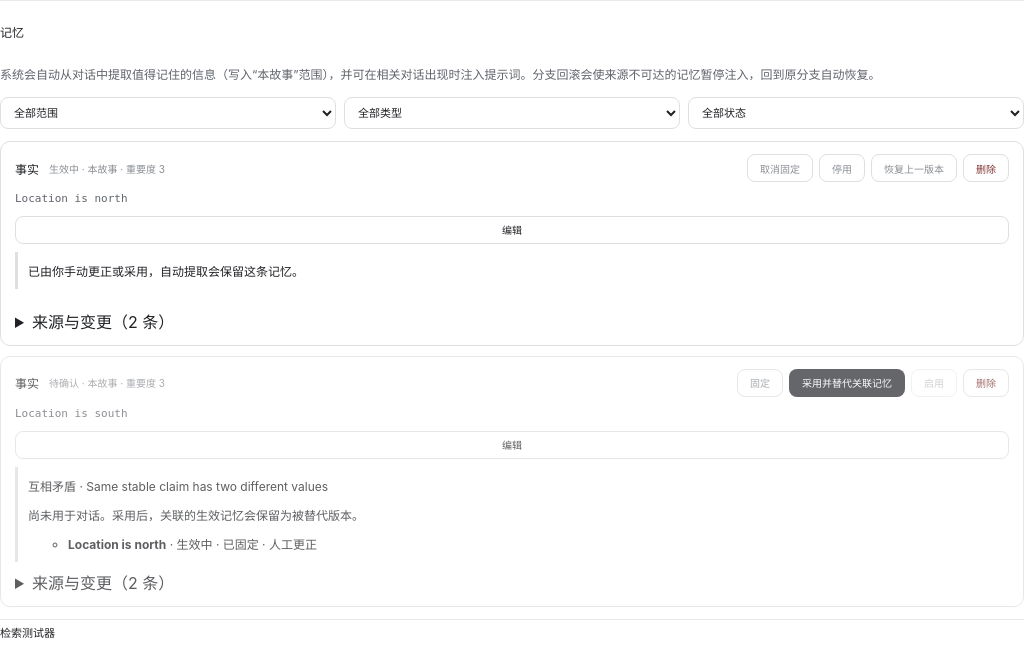
Scenario: shows the actual reconciliation reason and protected related content, then refreshes all records after explicit adoption and rollback
Expected: the text "Same stable claim has two different values" is shown, [86, 479, 328, 494]
Expected: the text "· 生效中 · 已固定 · 人工更正" is shown, [166, 537, 317, 552]
Click the button "采用并替代关联记忆". click: (847, 383)
box: [789, 369, 905, 397]
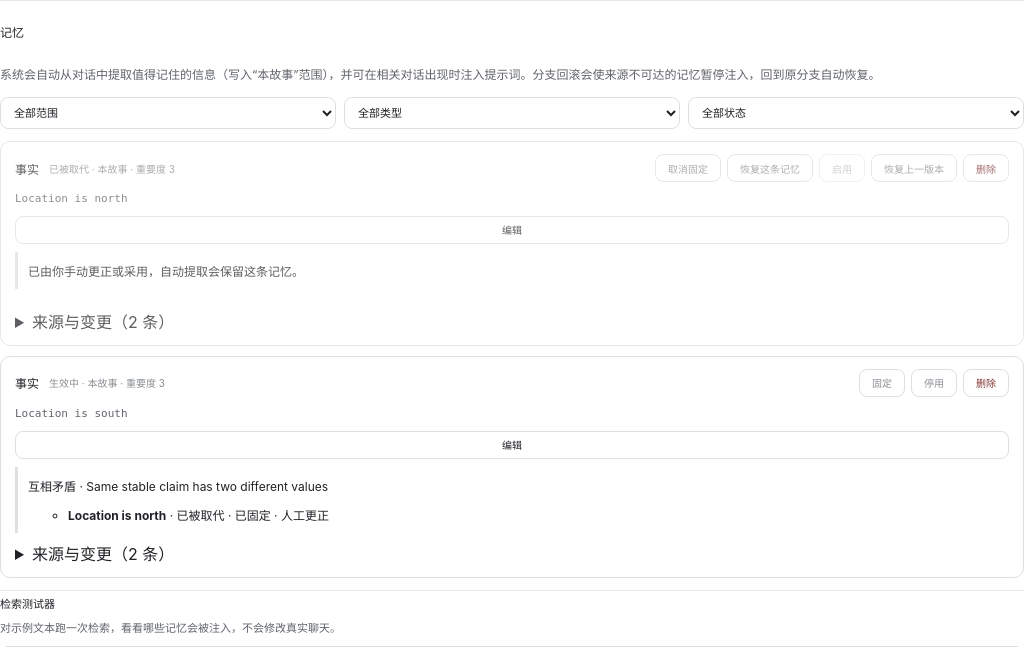
Expected: the button "恢复这条记忆" is shown
Click the button "恢复这条记忆". click: (770, 168)
box: [727, 154, 813, 182]
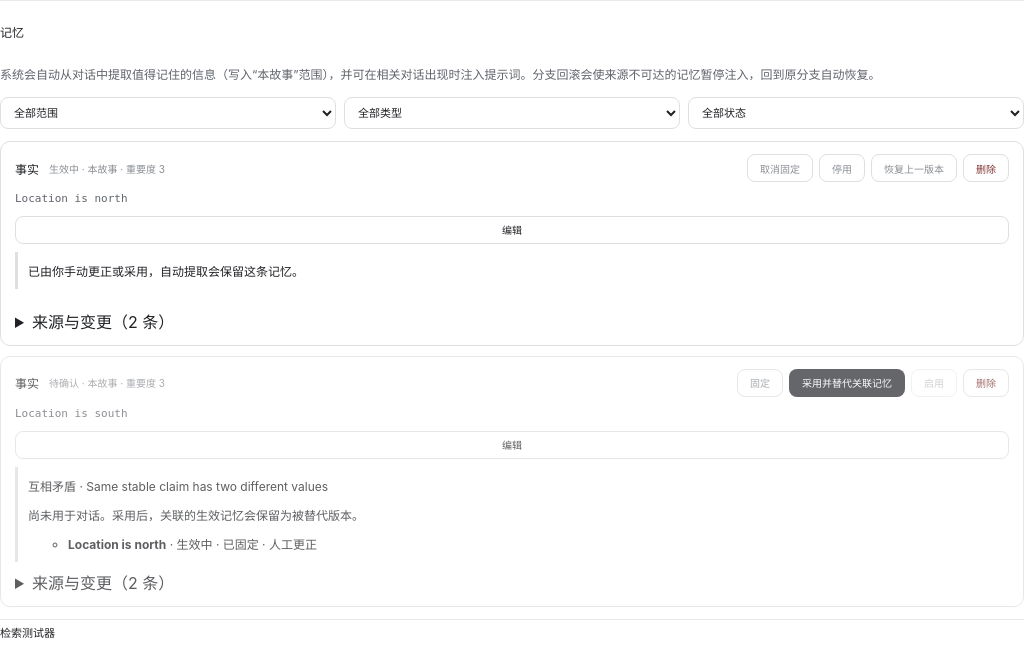
Expected: the button "采用并替代关联记忆" is shown, [789, 369, 905, 397]
